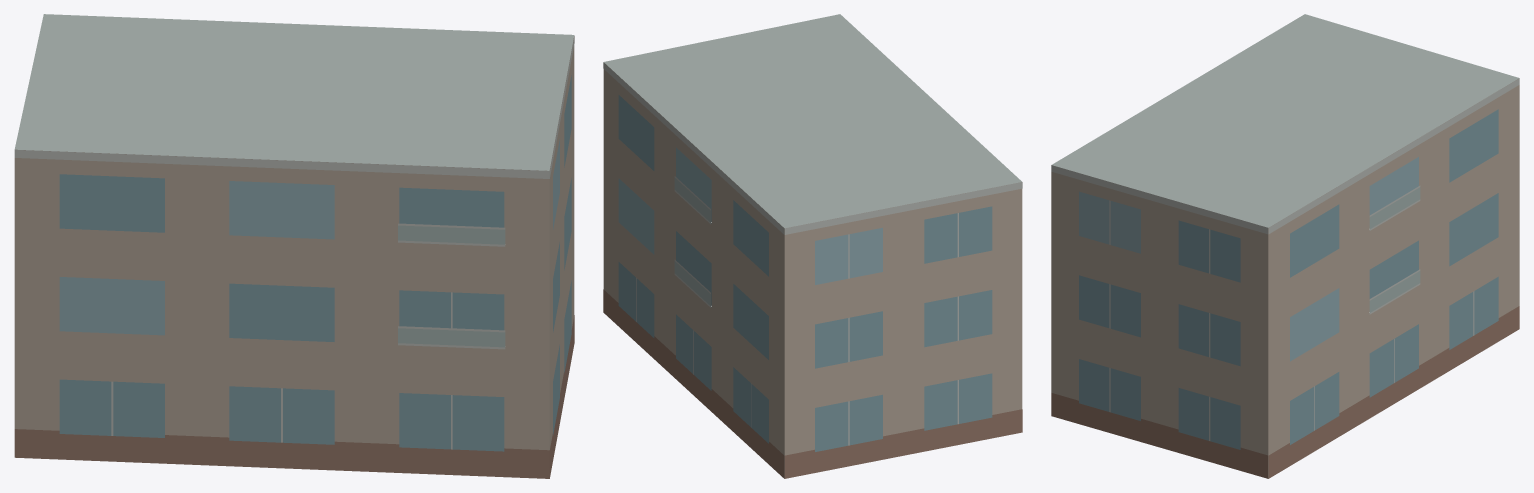
Rendered from survey-upis-32707468.glb.
3 views of the same model, side by side, from view 1: azimuth 30°, elevation 25°; view 2: azimuth 150°, elevation 25°; view 3: azimuth 270°, elevation 25° (orthographic). The views are drawn at different scales.
Parts seen in each view (by area): view 1: survey-upis-32707468.tmp; view 2: survey-upis-32707468.tmp; view 3: survey-upis-32707468.tmp.
Part boxes in pixels (x1,y1,x2,y2): survey-upis-32707468.tmp: [14, 14, 574, 478]; survey-upis-32707468.tmp: [603, 14, 1022, 478]; survey-upis-32707468.tmp: [1051, 14, 1519, 478].
Size of the model in its own units: 16.72 by 9.15 by 15.47.
